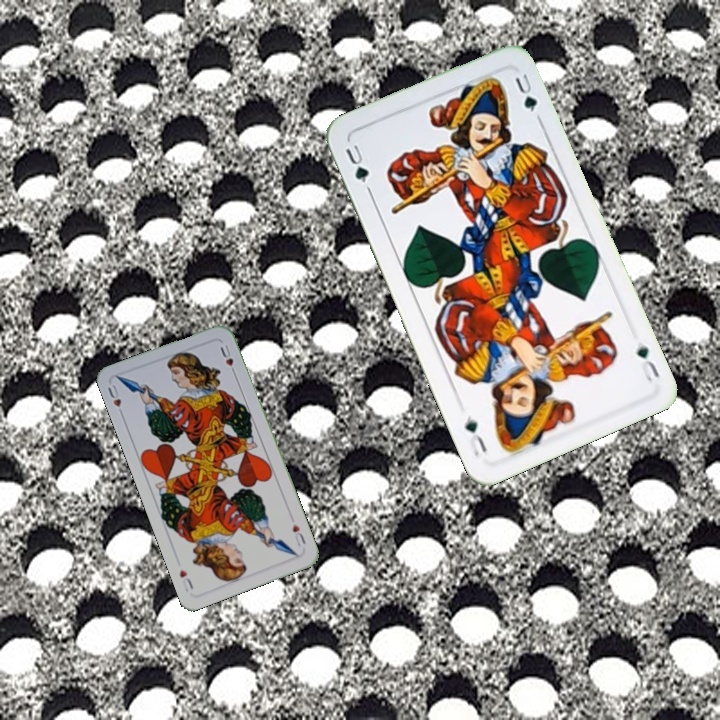GU: (341, 140, 372, 186), (632, 340, 663, 385)
HU: (103, 381, 125, 419), (288, 520, 308, 549)
